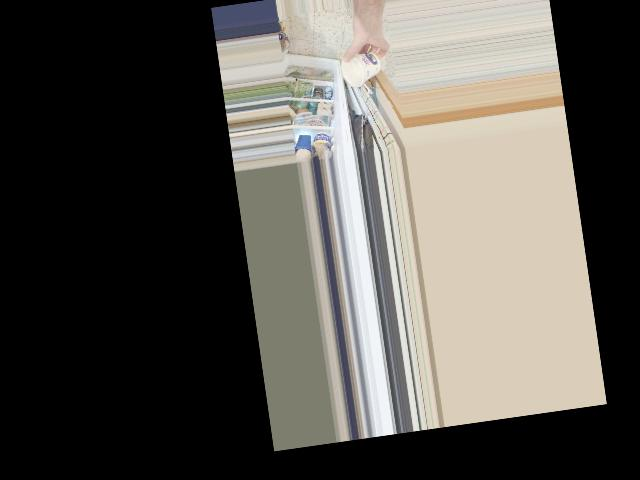cotage: (346, 45, 382, 85)
